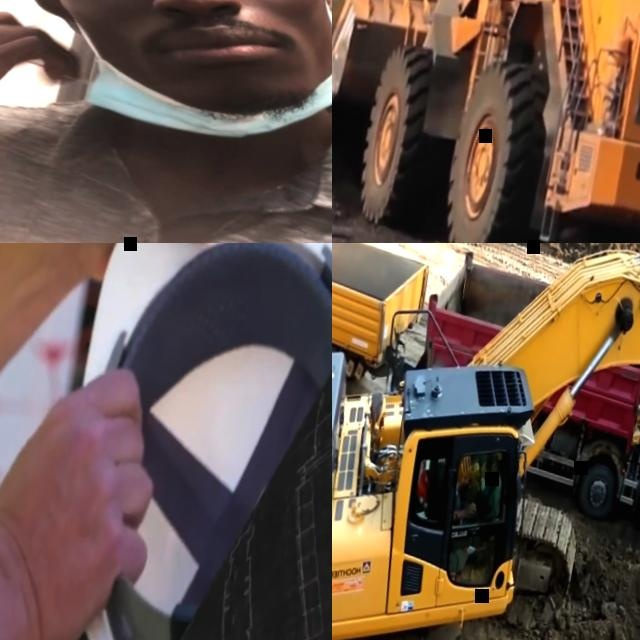Hardhat: (22, 243, 332, 640)
NO-Mask: (45, 0, 332, 127)
NO-Safety Vest: (0, 57, 332, 243), (452, 486, 463, 512)
Person: (0, 243, 230, 640), (0, 0, 332, 243), (443, 458, 496, 555)
Safety Vest: (412, 470, 434, 512)
machinery: (332, 243, 640, 640), (332, 0, 640, 243), (394, 243, 640, 544)
